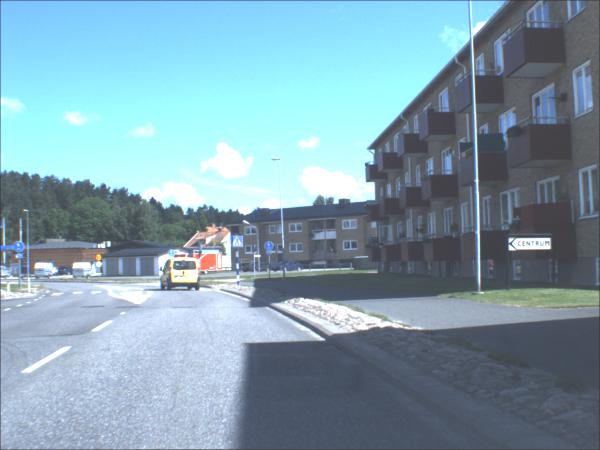50_SIGN: (96, 255, 104, 263)
PEDESTRIAN_CROSSING: (234, 237, 245, 249)
PRIORITY_ROAD: (97, 262, 105, 269)
